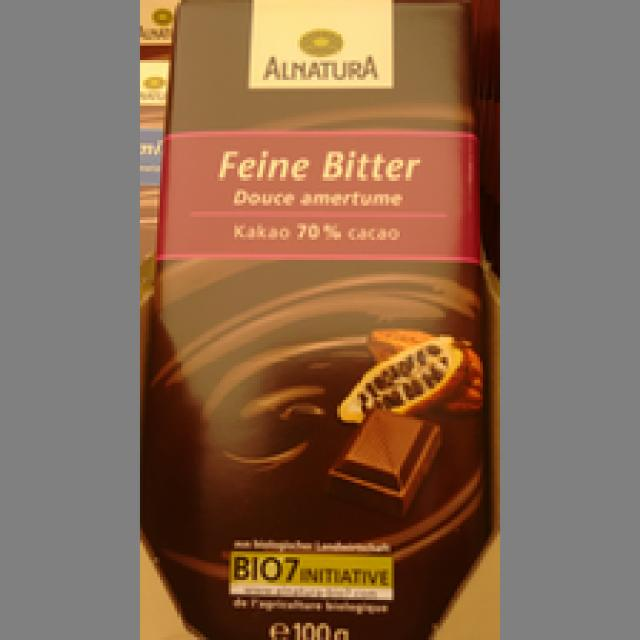groceries: (151, 0, 480, 637)
